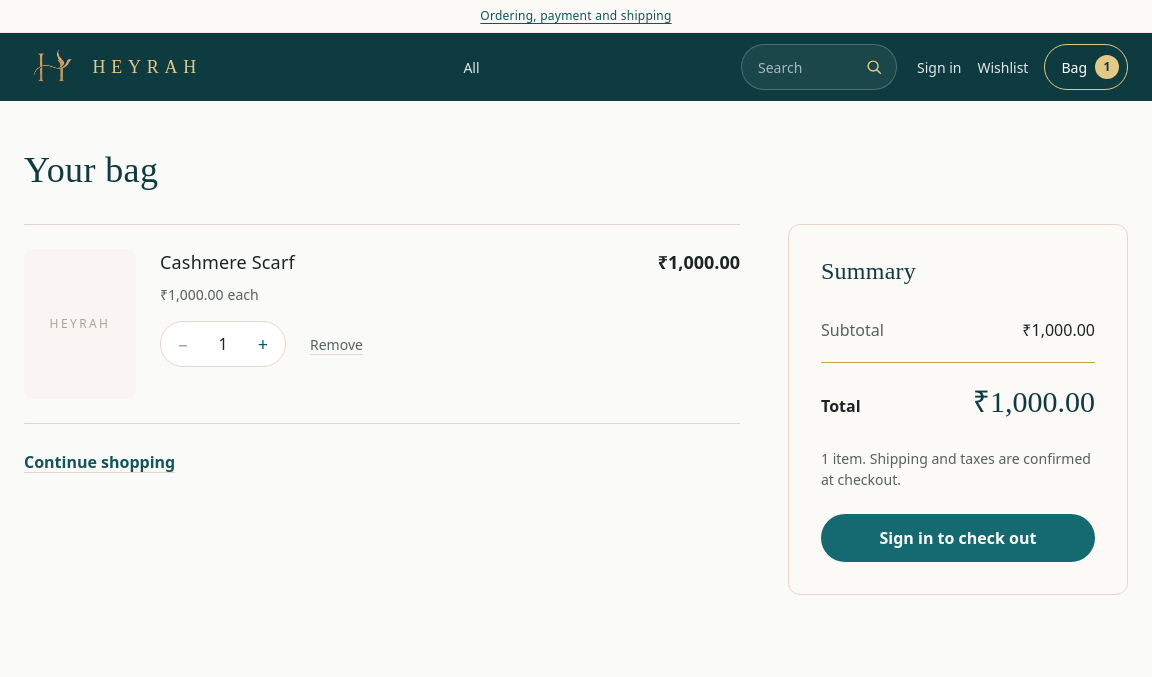
cart page › removes a line and announces it
Click the button with aria-label "Remove Cashmere Scarf from bag": [336, 344] box [302,322,371,366]
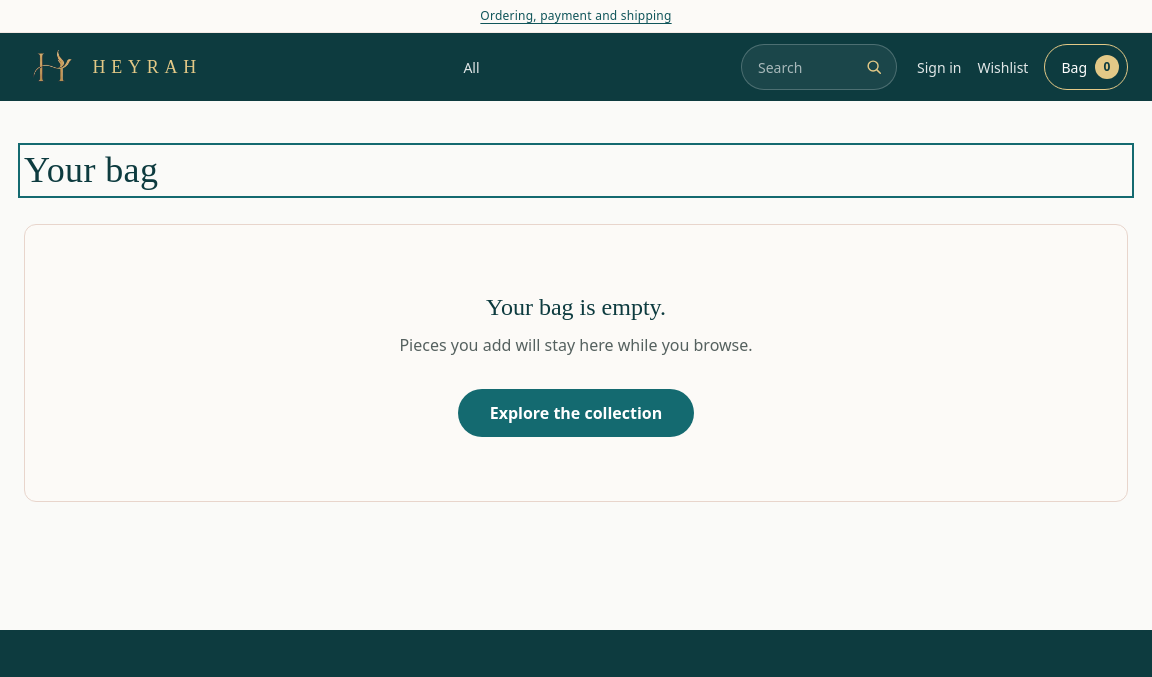
Expected: the element with test id "empty-bag" is shown, [24,224,1128,502]
